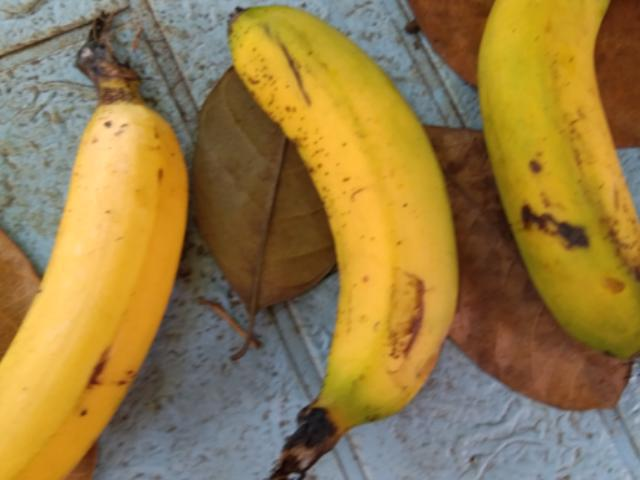freshripe: (0, 105, 180, 479)
ripe: (215, 11, 479, 463), (471, 0, 639, 396)
